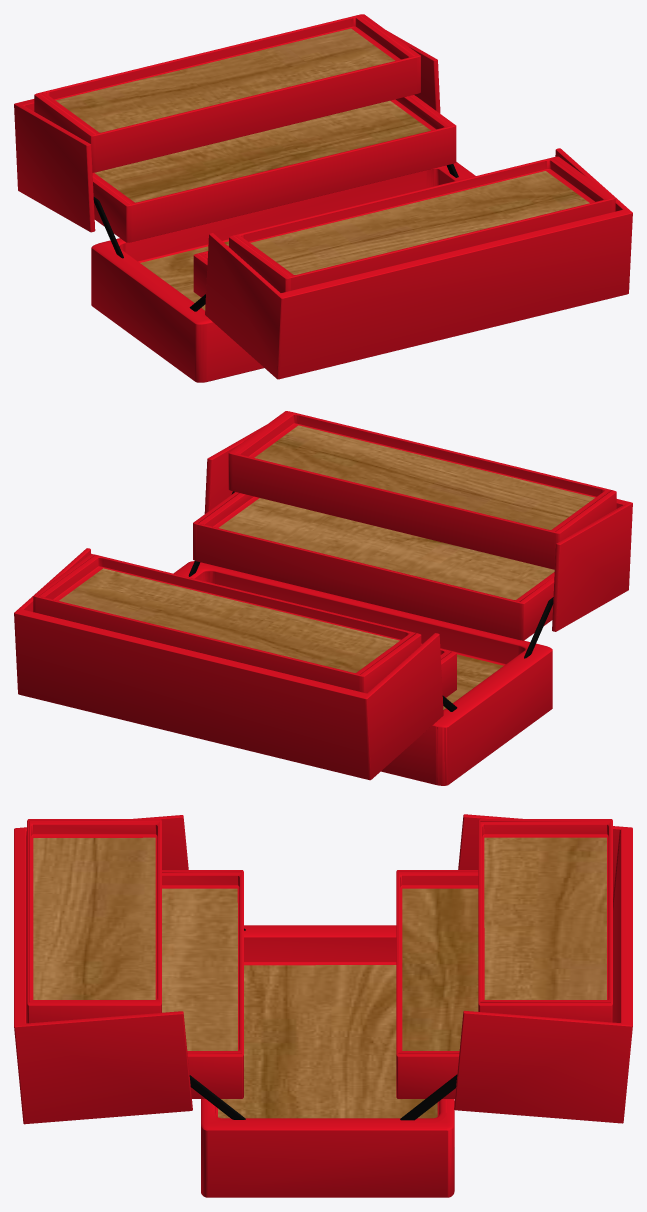
The picture shows the model from 3 angles, top to bottom: view 1: azimuth 30°, elevation 25°; view 2: azimuth 150°, elevation 25°; view 3: azimuth 270°, elevation 25°; orthographic projection. The views are drawn at different scales.
Visible parts, largest first — view 1: Cube.005, Cube.002, Cube.001, Cube.003, Cube.015, Cube.014, Cube.004; view 2: Cube.014, Cube.003, Cube.004, Cube.002, Cube.015, Cube.005, Cube.001; view 3: Cube.015, Cube.003, Cube.002, Cube.014, Cube.005, Cube.001, Cube.004, Cube.006, Cube.009.
Part boxes in pixels (x1,y1,x2,y2): Cube.005: (205,148,632,379); Cube.002: (34,14,420,172); Cube.001: (92,95,456,242); Cube.003: (229,156,615,292); Cube.015: (91,162,475,382); Cube.014: (14,30,440,232); Cube.004: (193,246,228,297); Cube.014: (14,548,443,780); Cube.003: (228,411,616,569); Cube.004: (193,492,554,640); Cube.002: (33,554,421,693); Cube.015: (173,561,552,785); Cube.005: (204,425,632,631); Cube.001: (421,643,456,697); Cube.015: (201,925,454,1197); Cube.003: (27,819,161,1023); Cube.002: (478,819,612,1022); Cube.014: (454,814,632,1123); Cube.005: (14,815,192,1124); Cube.001: (396,870,478,1098); Cube.004: (162,870,243,1098); Cube.006: (400,1074,457,1120); Cube.009: (189,1075,245,1119).
Bounding box in the file's own units: 32.91 × 13.76 × 42.01.
